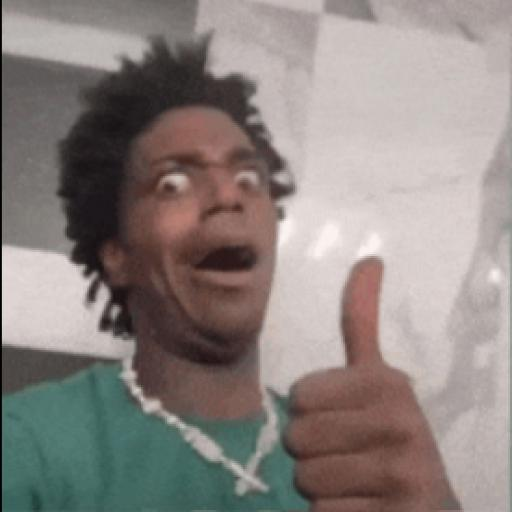Thumbs_Up: (258, 230, 486, 512)
